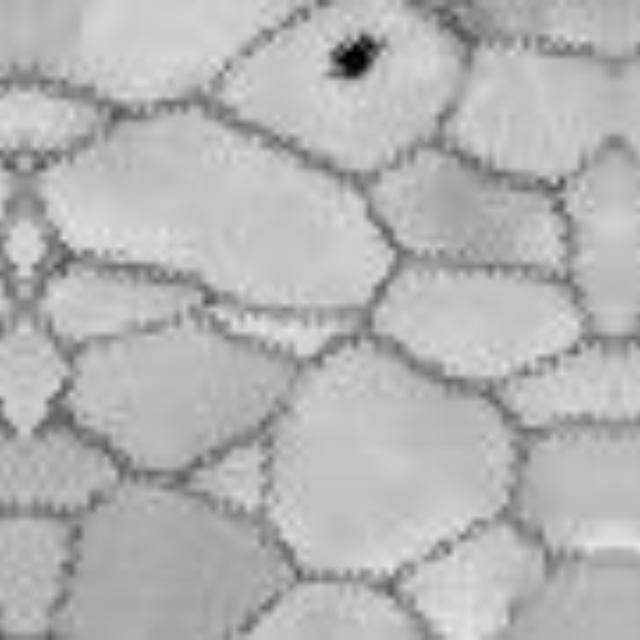good_void: (323, 26, 392, 85)
